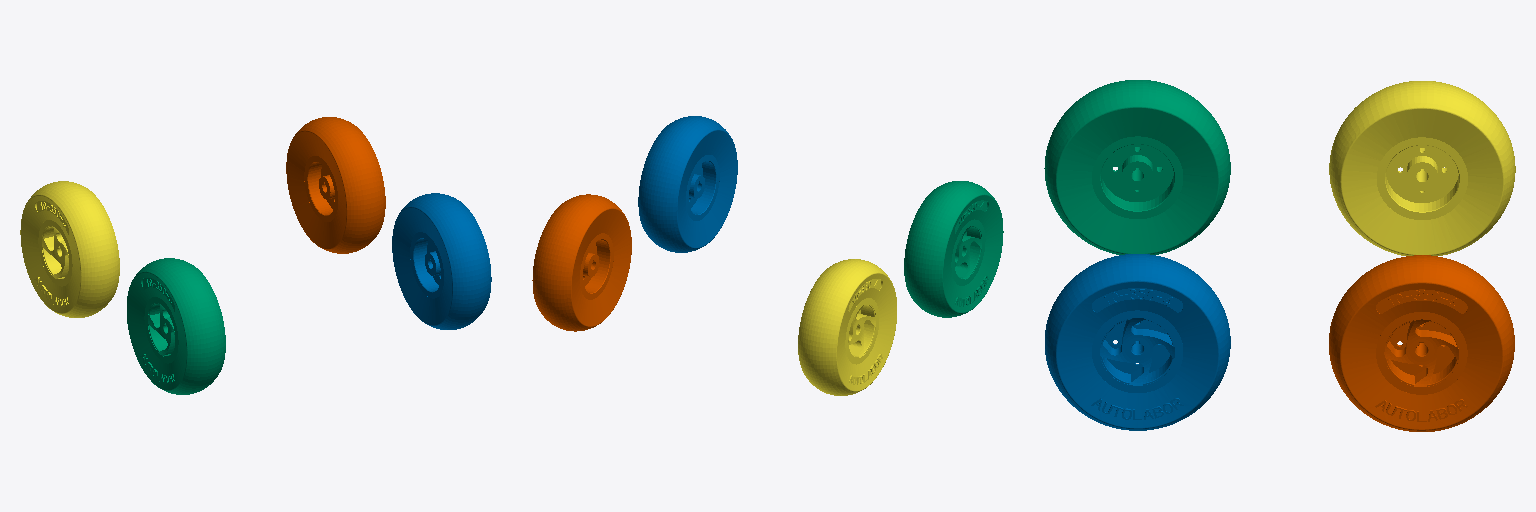
URDF robot description (autolabor_description):
<?xml version="1.0" ?>
<robot name="autolabor_description">
  <joint name="dummy_joint" type="fixed">
    <parent link="odom"/>
    <child link="base_link"/>
    <origin xyz="0 0 0" rpy="0 0 0"/>
  </joint>
  <joint name="frjoint" type="revolute">
    <parent link="base_link"/>
    <child link="front_right_wheel"/>
    <origin rpy="0  0  0" xyz="-0.2786993682384491 -0.12106603384017944 -0.02870245650410652"/>
    <axis xyz="0  0  1"/>
    <limit effort="10" lower="-0.3" upper="0.3" velocity="10"/>
  </joint>
  <joint name="brjoint" type="revolute">
    <parent link="base_link"/>
    <child link="back_right_wheel"/>
    <origin rpy="0  0  0" xyz="-0.2786993682384491 0.2670927047729492 -0.03011767752468586"/>
    <axis xyz="1  0  0"/>
    <limit effort="10" lower="-1.79769e+308" upper="1.79769e+308" velocity="10"/>
  </joint>
  <joint name="fljoint" type="revolute">
    <parent link="base_link"/>
    <child link="front_left_wheel"/>
    <origin rpy="0  0  3.14159" xyz="0.2827356159687042 -0.1203216165304184 -0.02870248258113861"/>
    <axis xyz="0  0  1"/>
    <limit effort="10" lower="-0.3" upper="0.3" velocity="10"/>
  </joint>
  <joint name="bljoint" type="revolute">
    <parent link="base_link"/>
    <child link="back_left_wheel"/>
    <origin rpy="0  0  3.14159" xyz="0.2827356159687042 0.2670927047729492 -0.03086165525019169"/>
    <axis xyz="-1  0  0"/>
    <limit effort="10" lower="-1.79769e+308" upper="1.79769e+308" velocity="10"/>
  </joint>
  <link name="odom"/>
  <link name="base_link">
    <inertial>
      <mass value="10"/>
      <origin rpy="0  0  0" xyz="0  0  0"/>
      <inertia ixx="0.166667" ixy="0" ixz="0" iyy="0.166667" iyz="0" izz="0.166667"/>
    </inertial>
    <collision name="collision">
      <origin rpy="0  0  0" xyz="0  0  0"/>
      <geometry>
        <mesh filename="package://autolabor_description/meshes/body.stl" scale="1 1 1"/>
      </geometry>
    </collision>
    <visual name="visual">
      <origin rpy="0  0  0" xyz="0  0  0"/>
      <geometry>
        <mesh filename="package://autolabor_description/meshes/body.stl" scale="1 1 1"/>
      </geometry>
    </visual>
  </link>
  <link name="front_right_wheel">
    <inertial>
      <mass value="1"/>
      <origin rpy="0  0  0" xyz="0  0  0"/>
      <inertia ixx="0.166667" ixy="0" ixz="0" iyy="0.166667" iyz="0" izz="0.166667"/>
    </inertial>
    <collision name="collision">
      <origin rpy="0  0  0" xyz="0  0  0"/>
      <geometry>
        <mesh filename="package://autolabor_description/meshes/wheel.stl" scale="1 1 1"/>
      </geometry>
    </collision>
    <visual name="visual">
      <origin rpy="0  0  0" xyz="0  0  0"/>
      <geometry>
        <mesh filename="package://autolabor_description/meshes/wheel.stl" scale="1 1 1"/>
      </geometry>
    </visual>
  </link>
  <link name="back_right_wheel">
    <inertial>
      <mass value="1"/>
      <origin rpy="0  0  0" xyz="0  0  0"/>
      <inertia ixx="0.166667" ixy="0" ixz="0" iyy="0.166667" iyz="0" izz="0.166667"/>
    </inertial>
    <collision name="collision">
      <origin rpy="0  0  0" xyz="0  0  0"/>
      <geometry>
        <mesh filename="package://autolabor_description/meshes/wheel.stl" scale="1 1 1"/>
      </geometry>
    </collision>
    <visual name="visual">
      <origin rpy="0  0  0" xyz="0  0  0"/>
      <geometry>
        <mesh filename="package://autolabor_description/meshes/wheel.stl" scale="1 1 1"/>
      </geometry>
    </visual>
  </link>
  <link name="front_left_wheel">
    <inertial>
      <mass value="1"/>
      <origin rpy="0  0  0" xyz="0  0  0"/>
      <inertia ixx="0.166667" ixy="0" ixz="0" iyy="0.166667" iyz="0" izz="0.166667"/>
    </inertial>
    <collision name="collision">
      <origin rpy="0  0  0" xyz="0  0  0"/>
      <geometry>
        <mesh filename="package://autolabor_description/meshes/wheel.stl" scale="1 1 1"/>
      </geometry>
    </collision>
    <visual name="visual">
      <origin rpy="0  0  0" xyz="0  0  0"/>
      <geometry>
        <mesh filename="package://autolabor_description/meshes/wheel.stl" scale="1 1 1"/>
      </geometry>
    </visual>
  </link>
  <link name="back_left_wheel">
    <inertial>
      <mass value="1"/>
      <origin rpy="0  0  0" xyz="0  0  0"/>
      <inertia ixx="0.166667" ixy="0" ixz="0" iyy="0.166667" iyz="0" izz="0.166667"/>
    </inertial>
    <collision name="collision">
      <origin rpy="0  0  0" xyz="0  0  0"/>
      <geometry>
        <mesh filename="package://autolabor_description/meshes/wheel.stl" scale="1 1 1"/>
      </geometry>
    </collision>
    <visual name="visual">
      <origin rpy="0  0  0" xyz="0  0  0"/>
      <geometry>
        <mesh filename="package://autolabor_description/meshes/wheel.stl" scale="1 1 1"/>
      </geometry>
    </visual>
  </link>
  <transmission name="tran1">
    <type>transmission_interface/SimpleTransmission</type>
    <joint name="frjoint">
      <hardwareInterface>hardware_interface/PositionJointInterface</hardwareInterface>
    </joint>
    <actuator name="motor1">
      <mechanicalReduction>1</mechanicalReduction>
    </actuator>
  </transmission>
  <transmission name="tran2">
    <type>transmission_interface/SimpleTransmission</type>
    <joint name="fljoint">
      <hardwareInterface>hardware_interface/PositionJointInterface</hardwareInterface>
    </joint>
    <actuator name="motor2">
      <mechanicalReduction>1</mechanicalReduction>
    </actuator>
  </transmission>
  <transmission name="tran3">
    <type>transmission_interface/SimpleTransmission</type>
    <joint name="brjoint">
      <hardwareInterface>hardware_interface/VelocityJointInterface</hardwareInterface>
    </joint>
    <actuator name="motor3">
      <mechanicalReduction>1</mechanicalReduction>
    </actuator>
  </transmission>
  <transmission name="tran4">
    <type>transmission_interface/SimpleTransmission</type>
    <joint name="bljoint">
      <hardwareInterface>hardware_interface/VelocityJointInterface</hardwareInterface>
    </joint>
    <actuator name="motor4">
      <mechanicalReduction>1</mechanicalReduction>
    </actuator>
  </transmission>

  <gazebo reference="base_link">
    <mu1>0.2</mu1>
    <mu2>0.2</mu2>
  </gazebo>
  <gazebo reference="front_right_wheel">
    <mu1>0.2</mu1>
    <mu2>0.2</mu2>
  </gazebo>
  <gazebo reference="back_right_wheel">
    <mu1>0.2</mu1>
    <mu2>0.2</mu2>
  </gazebo>
  <gazebo reference="front_left_wheel">
    <mu1>0.2</mu1>
    <mu2>0.2</mu2>
  </gazebo>
  <gazebo reference="back_left_wheel">
    <mu1>0.2</mu1>
    <mu2>0.2</mu2>
  </gazebo>

  <gazebo>
    <self_collide>true</self_collide>
    <plugin name="gazebo_ros_control" filename="libgazebo_ros_control.so">
    <robotNamespace>/autolabor_pro1</robotNamespace>
    <robotSimType>gazebo_ros_control/DefaultRobotHWSim</robotSimType>
  </plugin>
  </gazebo>
</robot>

--- Facts derived from the render (not from the file) ---
The picture shows the robot from 3 angles, left to right: view 1: azimuth 30°, elevation 25°; view 2: azimuth 150°, elevation 25°; view 3: azimuth 270°, elevation 25°; orthographic projection.
Model autolabor_description with 6 links and 5 joints (4 revolute, 1 fixed), rooted at odom, posed every joint at zero.
Visible links, largest first — view 1: back_right_wheel, back_left_wheel, front_left_wheel, front_right_wheel; view 2: front_left_wheel, back_right_wheel, back_left_wheel, front_right_wheel; view 3: back_left_wheel, front_left_wheel, back_right_wheel, front_right_wheel.
Boxes of the visible links, bbox=[...] form: back_right_wheel: bbox=[20, 181, 119, 317]; back_left_wheel: bbox=[286, 117, 385, 253]; front_left_wheel: bbox=[392, 193, 491, 329]; front_right_wheel: bbox=[127, 258, 225, 394]; front_left_wheel: bbox=[638, 116, 737, 252]; back_right_wheel: bbox=[798, 259, 896, 395]; back_left_wheel: bbox=[532, 194, 631, 331]; front_right_wheel: bbox=[904, 181, 1003, 317]; back_left_wheel: bbox=[1329, 255, 1514, 431]; front_left_wheel: bbox=[1045, 254, 1230, 430]; back_right_wheel: bbox=[1329, 81, 1515, 255]; front_right_wheel: bbox=[1044, 80, 1230, 254].
Bounding box of the posed robot: 0.6436 × 0.6421 × 0.2561 m (x, y, z).
4 mesh visuals loaded from 2 distinct referenced files (1 binary STL); not drawn: 1 (reference not matched to a file when rendering).
